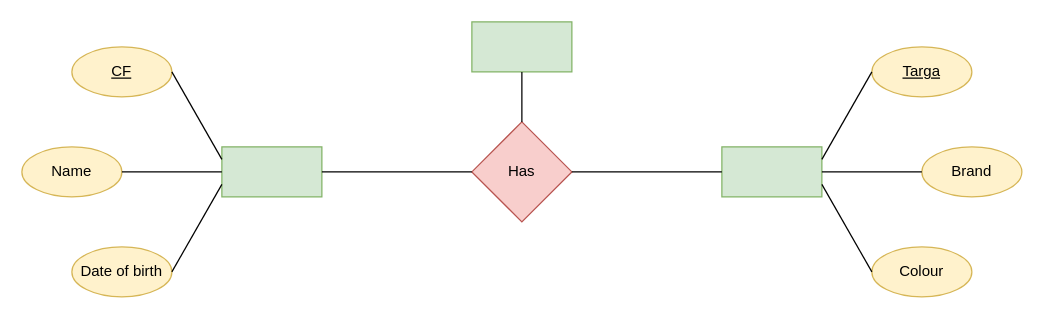
Some shapes in this 1044 by 319 pixel diagram are drawn without their labels. Each missing label, with the centre of its shape:
"Cars" belongs at point 771,171.
"Date" belongs at point 521,46.
"Persons" belongs at point 271,171.
